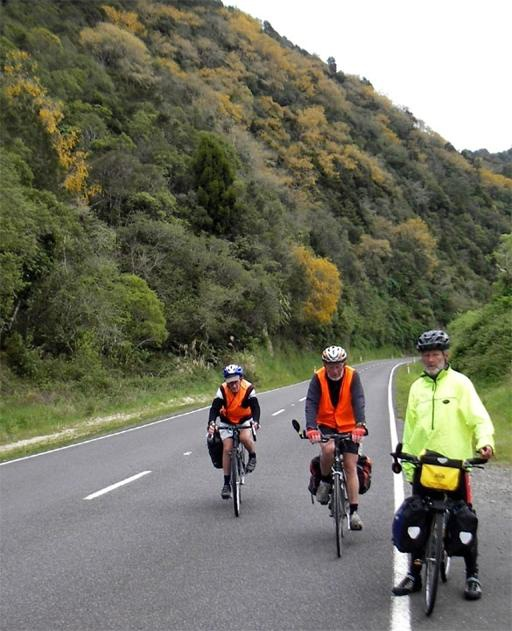non-vehicle: (385, 439, 490, 618), (297, 430, 353, 556), (207, 419, 262, 518)
